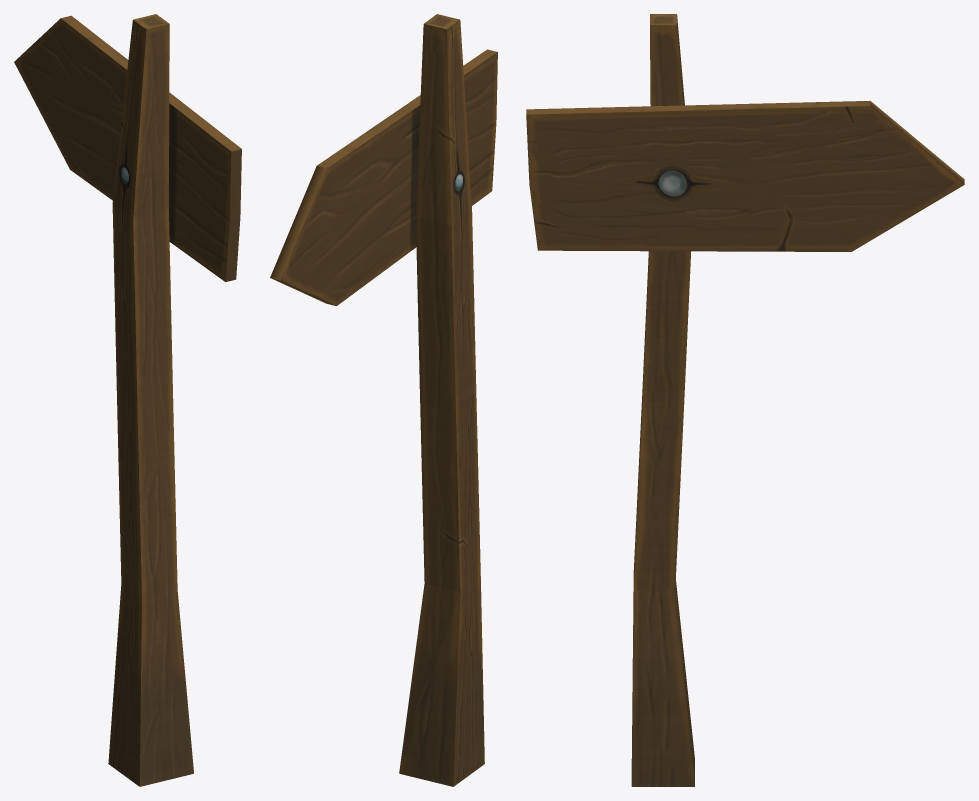
Rendered from ArrowSign01.fbx.
3 views of the same model, side by side, from view 1: azimuth 30°, elevation 25°; view 2: azimuth 150°, elevation 25°; view 3: azimuth 270°, elevation 25° (orthographic).
Parts seen in each view (by area): view 1: Box002; view 2: Box002; view 3: Box002.
Boxes of the visible parts, bbox=[...] form: Box002: bbox=[14, 14, 241, 786]; Box002: bbox=[270, 14, 497, 786]; Box002: bbox=[526, 14, 964, 786].
Bounding box in the file's own units: 15.22 × 200 × 105.
Materials: 1 (1 with a texture image).
